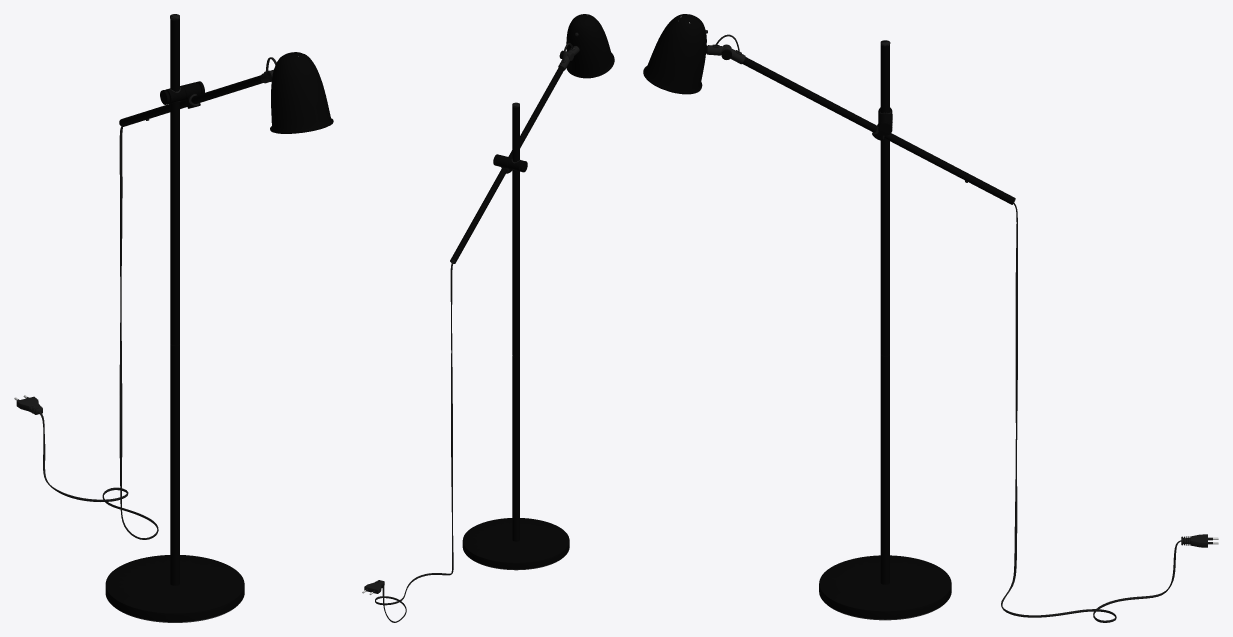
Rendered from floor_lamp_ikea_model_skurup_3dog.glb.
3 views of the same model, side by side, from view 1: azimuth 30°, elevation 25°; view 2: azimuth 150°, elevation 25°; view 3: azimuth 270°, elevation 25° (orthographic). The views are drawn at different scales.
Parts seen in each view (by area): view 1: base_black metal_0, plastic_cap_plastic_0; view 2: base_black metal_0, plastic_cap_plastic_0; view 3: base_black metal_0, plastic_cap_plastic_0.
Part boxes in pixels (x1=…): base_black metal_0: x1=105, y1=19, x2=333, y2=621; plastic_cap_plastic_0: x1=38, y1=14, x2=273, y2=539; base_black metal_0: x1=451, y1=14, x2=614, y2=569; plastic_cap_plastic_0: x1=375, y1=32, x2=579, y2=622; base_black metal_0: x1=643, y1=14, x2=1014, y2=619; plastic_cap_plastic_0: x1=705, y1=30, x2=1181, y2=622.
Size of the model in its own units: 0.2939 by 1.35 by 1.21.
Materials: 10 (9 with a texture image).
